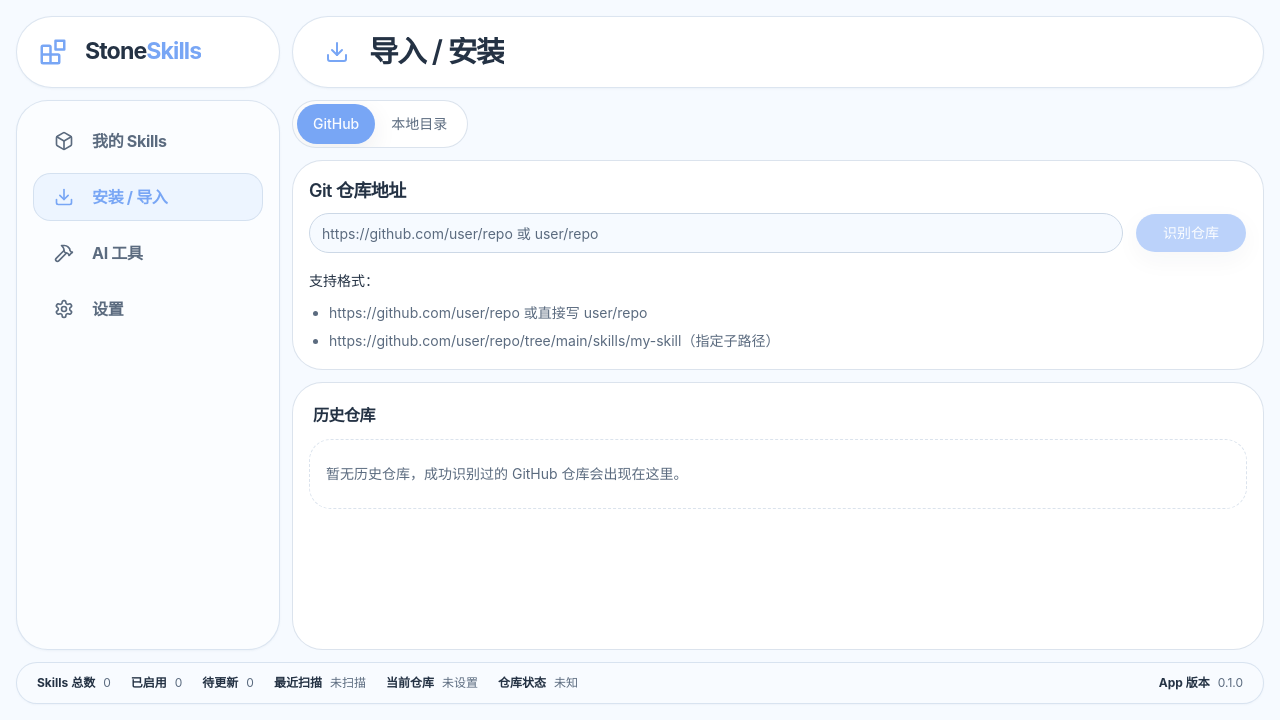
InstallPage › 结果态支持返回上一步并保留已输入的 GitHub 地址
Type "https://github.com/example/skills" into the field with placeholder "https://github.com/user/repo 或 user/repo".
click(716, 233); type("https://github.com/example/skills")  # box [309, 213, 1123, 253]
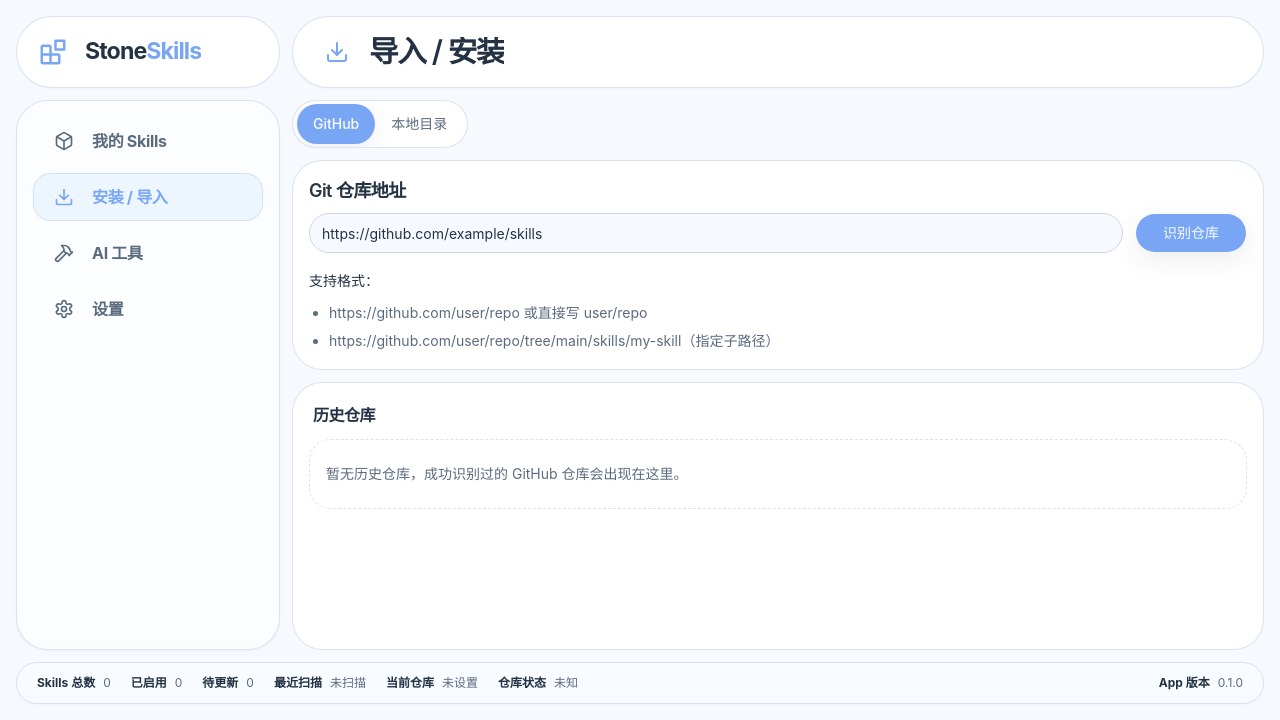
Click the button "识别仓库".
click(1191, 233)  # box [1135, 213, 1247, 253]
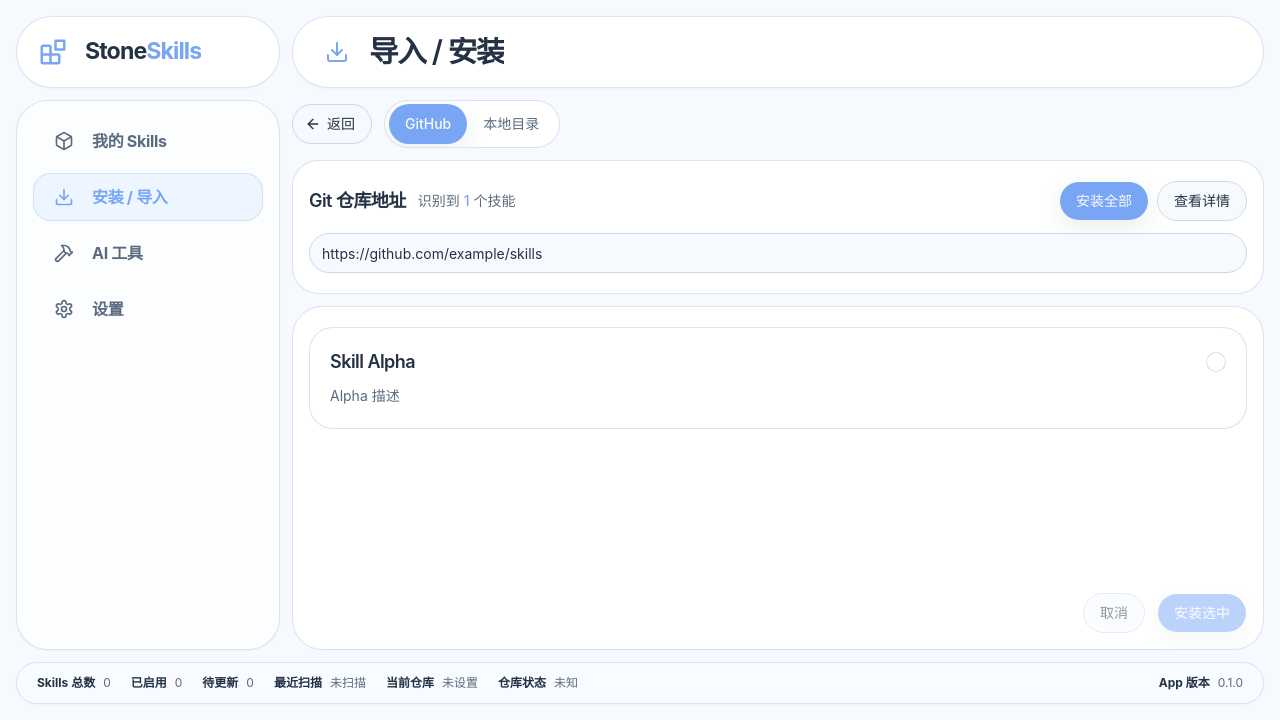
Expected: the heading "Skill Alpha" is shown, [330, 348, 415, 376]
Click the button "返回".
click(332, 124)  # box [292, 104, 372, 144]
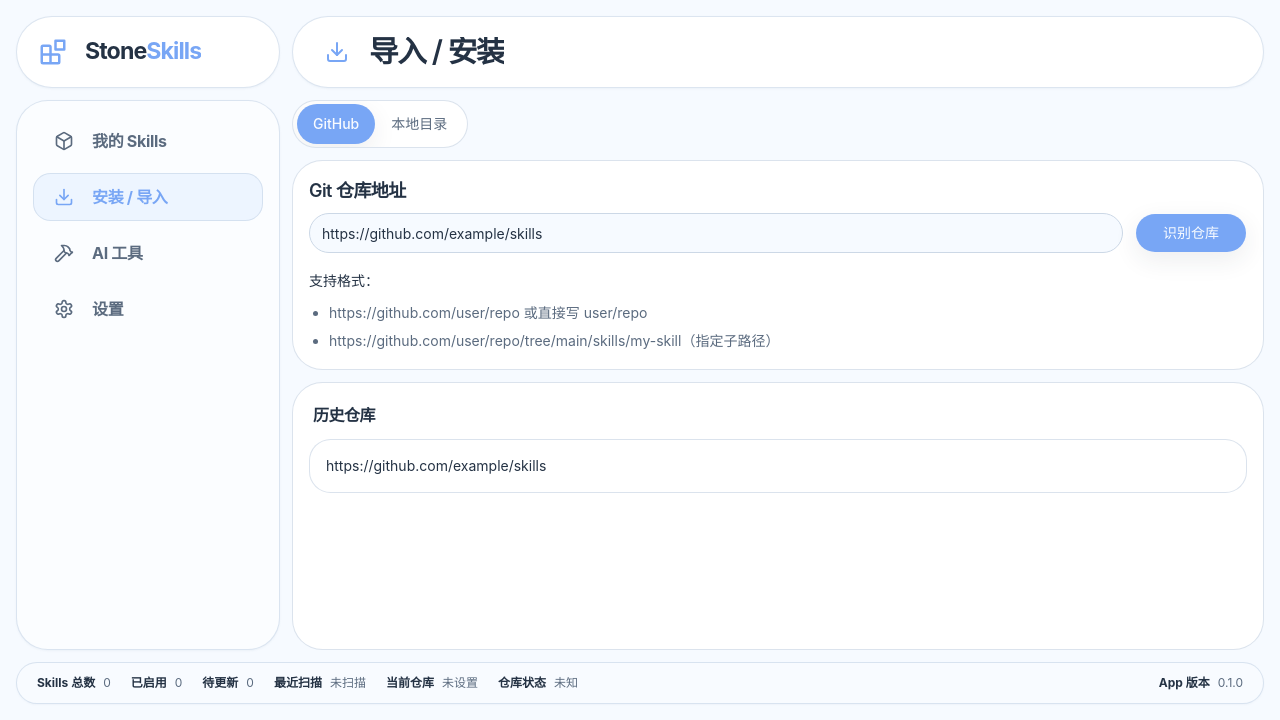
Expected: the field showing "https://github.com/example/skills" is shown, [309, 213, 1123, 253]
Expected: the element with test id "github-import-preview-root" is gone
Expected: the button "识别仓库" is shown, [1135, 213, 1247, 253]
